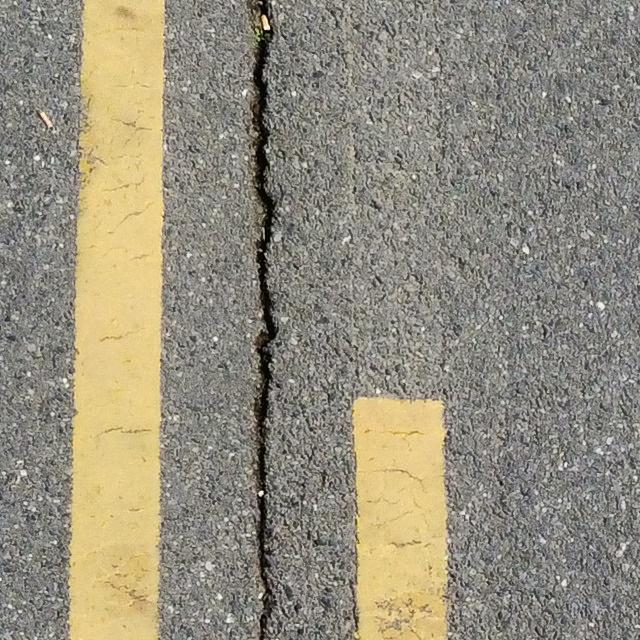LongitudinalCrack: (249, 1, 282, 640)
